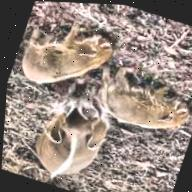boar: (54, 51, 192, 152), (14, 11, 120, 104), (24, 100, 113, 192)
